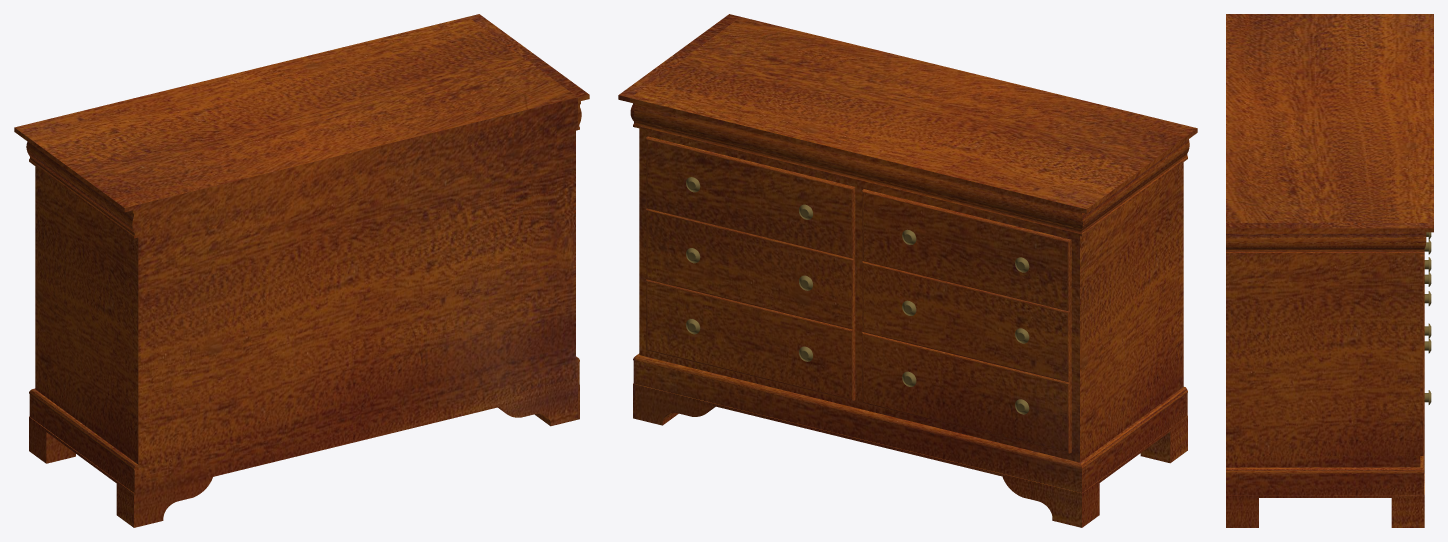
3 views of the same model, side by side, from view 1: azimuth 30°, elevation 25°; view 2: azimuth 150°, elevation 25°; view 3: azimuth 270°, elevation 25° (orthographic). The views are drawn at different scales.
Visible parts, largest first — view 1: mesh7_mesh7-geometry; view 2: mesh7_mesh7-geometry; view 3: mesh7_mesh7-geometry.
Boxes of the visible parts, box(x1,y1,x2,y2) form: mesh7_mesh7-geometry: box(14, 14, 589, 527); mesh7_mesh7-geometry: box(618, 14, 1197, 527); mesh7_mesh7-geometry: box(1226, 14, 1433, 527).
Bounding box in the file's own units: 0.7889 × 0.5224 × 0.3236.
